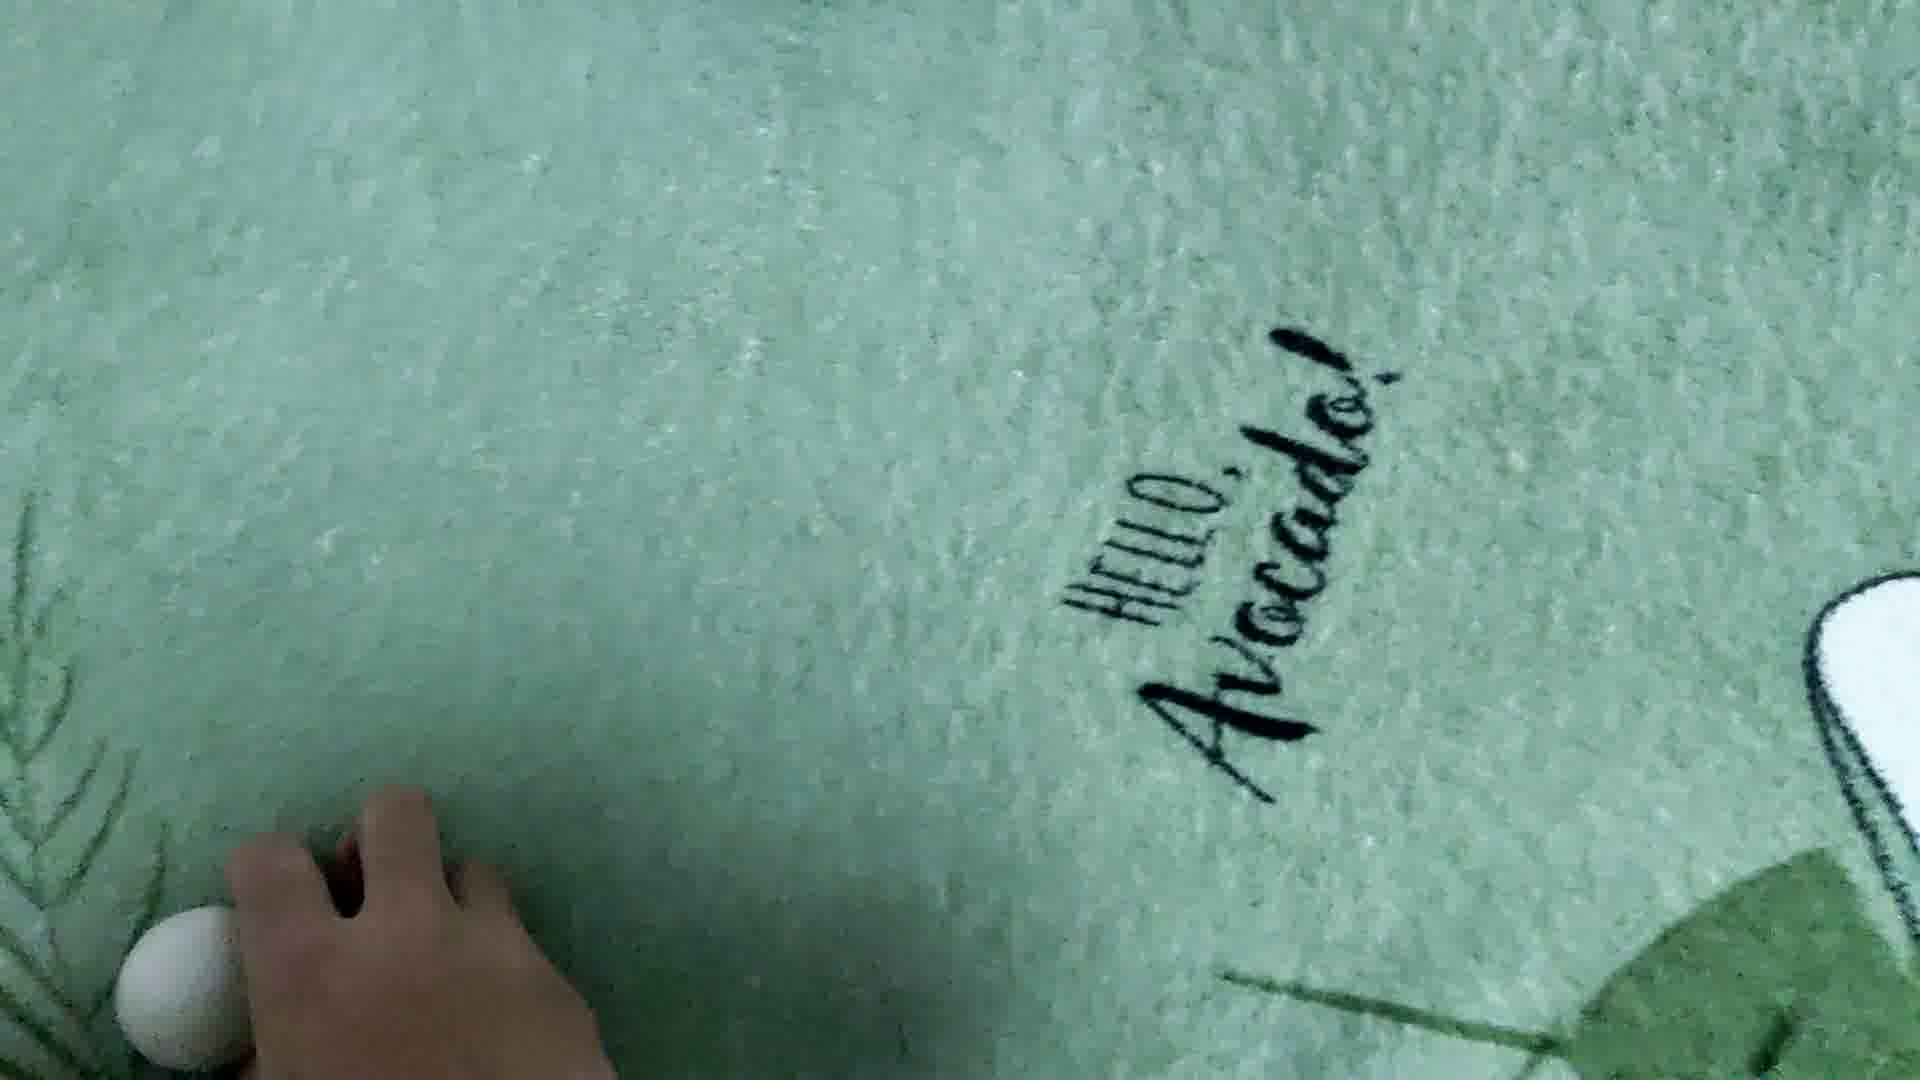Ball: (117, 899, 287, 1077)
